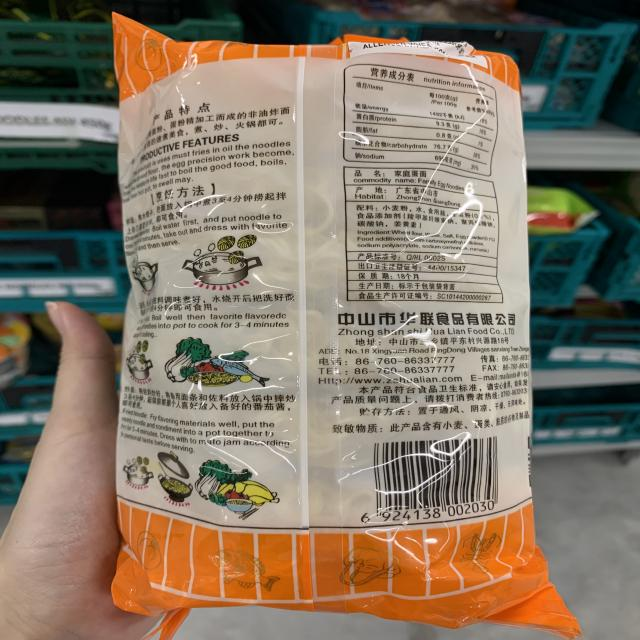object_name: (115, 29, 534, 624)
